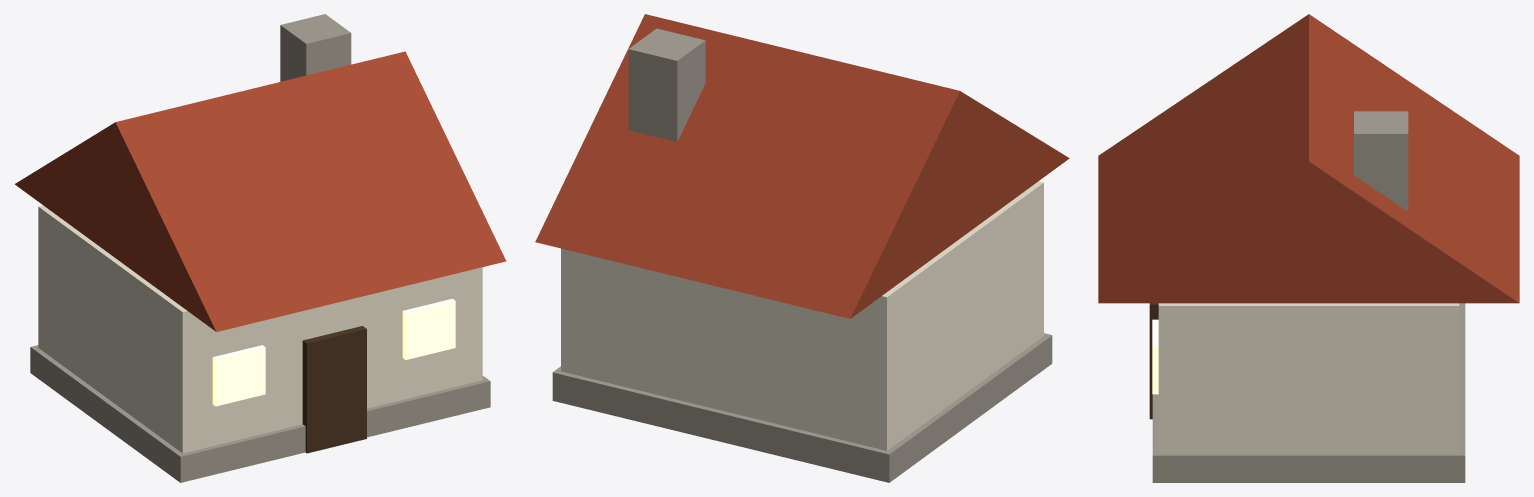
The model's file is cottage.glb.
The picture shows the model from 3 angles, left to right: view 1: azimuth 30°, elevation 25°; view 2: azimuth 150°, elevation 25°; view 3: azimuth 270°, elevation 25°; orthographic projection. The views are drawn at different scales.
Parts seen in each view (by area): view 1: cottage; view 2: cottage; view 3: cottage.
Part boxes in pixels (left/top/right/bottom): cottage: left=15, top=14, right=505, bottom=482; cottage: left=535, top=14, right=1069, bottom=482; cottage: left=1098, top=14, right=1519, bottom=482.
Size of the model in its own units: 6.2 by 6 by 7.
